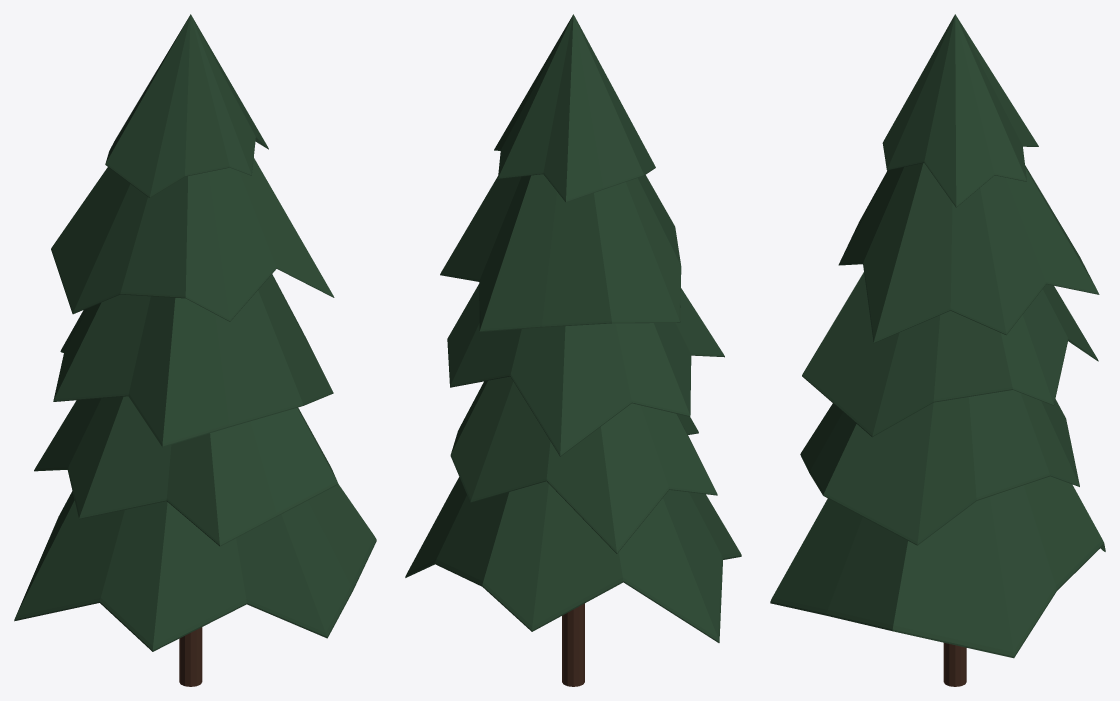
The model's file is pine.glb.
3 renders of one model, left to right at view 1: azimuth 30°, elevation 25°; view 2: azimuth 150°, elevation 25°; view 3: azimuth 270°, elevation 25°, orthographic.
Parts seen in each view (by area): view 1: Cone, Cone.002, Cone.003, Cone.001, Cone.004, Cylinder; view 2: Cone, Cone.003, Cone.001, Cone.002, Cone.004, Cylinder; view 3: Cone, Cone.003, Cone.001, Cone.002, Cone.004, Cylinder.
Part boxes in pixels (<box>): Cone: <box>14,484,376,651</box>; Cone.002: <box>53,274,333,447</box>; Cone.003: <box>51,157,334,321</box>; Cone.001: <box>34,396,338,546</box>; Cone.004: <box>105,14,268,197</box>; Cylinder: <box>179,627,202,686</box>; Cone: <box>405,477,741,642</box>; Cone.003: <box>440,174,681,331</box>; Cone.001: <box>450,376,717,553</box>; Cone.002: <box>447,284,724,456</box>; Cone.004: <box>494,14,655,202</box>; Cylinder: <box>562,603,584,686</box>; Cone: <box>770,476,1105,658</box>; Cone.003: <box>838,163,1099,343</box>; Cone.001: <box>800,390,1079,545</box>; Cone.002: <box>802,272,1098,437</box>; Cone.004: <box>882,14,1038,207</box>; Cylinder: <box>943,643,966,686</box>.
Bounding box in the file's own units: 1.86 × 3.75 × 1.71.
